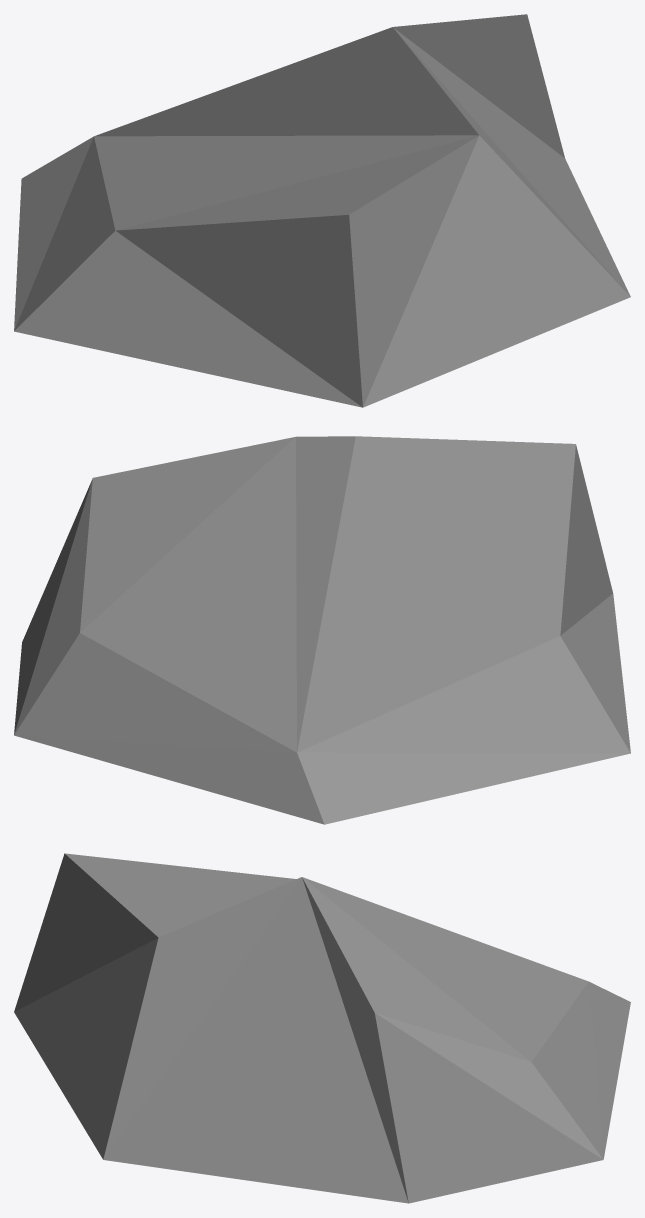
The model's file is Stone_B_19.FBX.
The picture shows the model from 3 angles, top to bottom: view 1: azimuth 30°, elevation 25°; view 2: azimuth 150°, elevation 25°; view 3: azimuth 270°, elevation 25°; orthographic projection. The views are drawn at different scales.
Visible parts, largest first — view 1: Stone_B_19; view 2: Stone_B_19; view 3: Stone_B_19.
Part boxes in pixels (x1,y1,x2,y2): Stone_B_19: (14,14,630,407); Stone_B_19: (14,436,630,824); Stone_B_19: (14,853,630,1203).
Size of the model in its own units: 0.8354 by 0.3077 by 0.7841.
